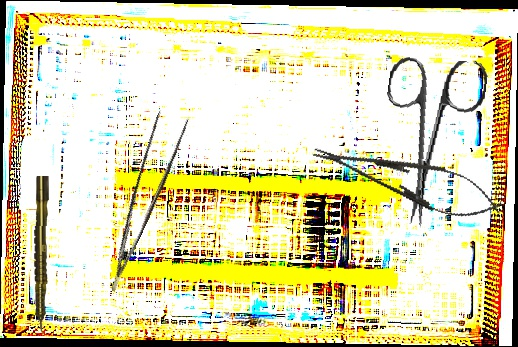Handpiece: (32, 175, 51, 335)
Iris Scissors: (369, 51, 490, 232)
Needle Holder: (305, 129, 509, 230)
Tissue Forceps: (82, 103, 196, 292)
